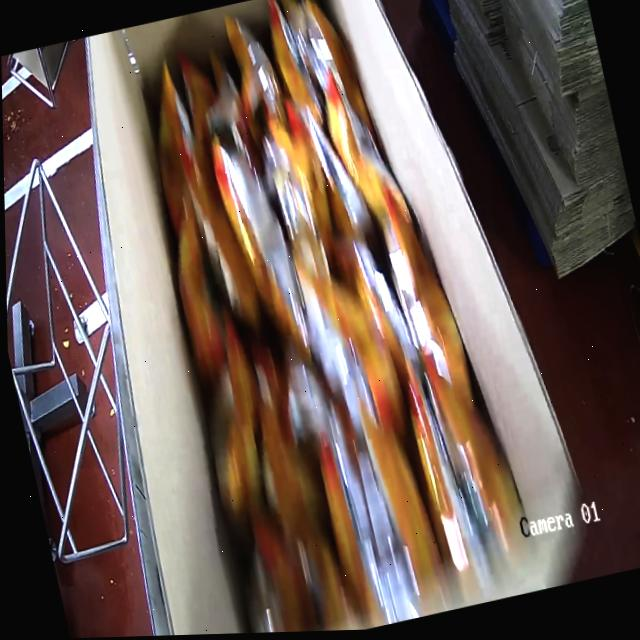FRENCH_CHEESE: (108, 0, 531, 634)
